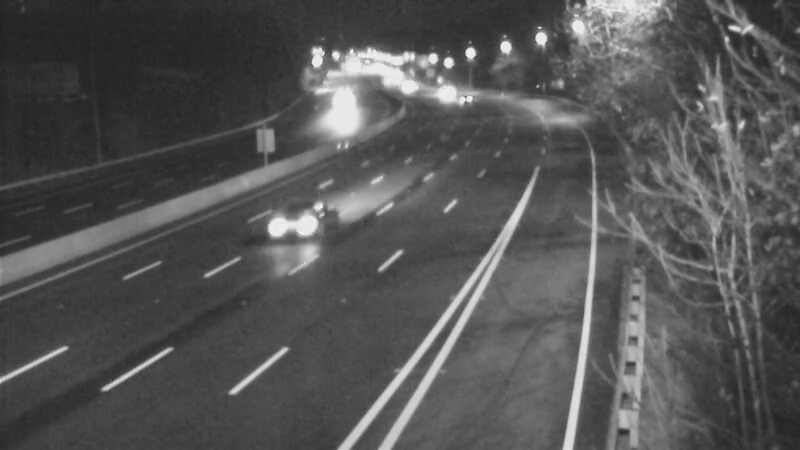vehicle: (261, 174, 341, 254), (422, 70, 472, 120), (441, 76, 491, 126), (316, 82, 366, 132)
